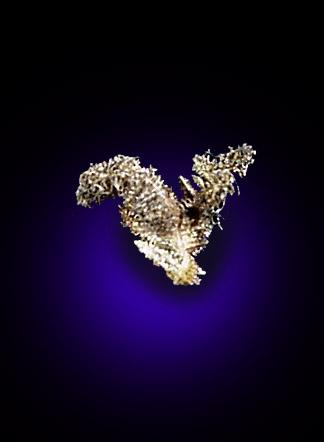silver: (77, 144, 255, 286)
